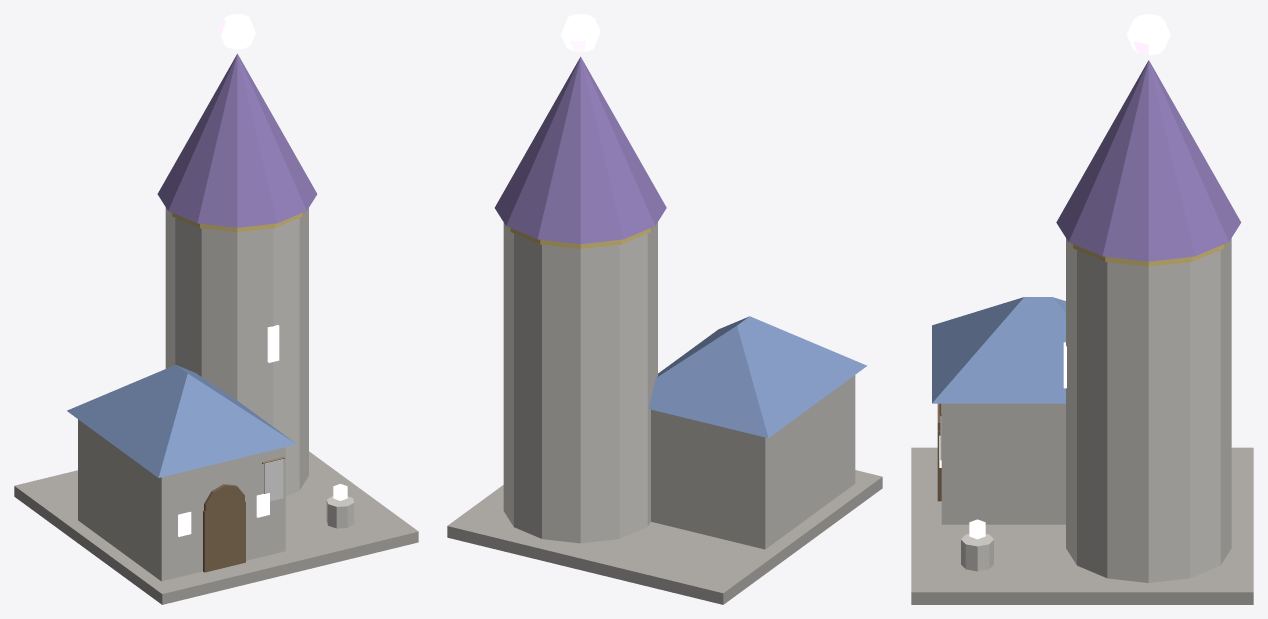
3 views of the same model, side by side, from view 1: azimuth 30°, elevation 25°; view 2: azimuth 150°, elevation 25°; view 3: azimuth 270°, elevation 25° (orthographic). The views are drawn at different scales.
Visible parts, largest first — view 1: body; view 2: body; view 3: body.
Boxes of the visible parts, bbox=[...] form: body: bbox=[14, 14, 418, 604]; body: bbox=[447, 14, 882, 604]; body: bbox=[911, 14, 1253, 604].
Size of the model in its own units: 12.4 by 21.8 by 12.4.
